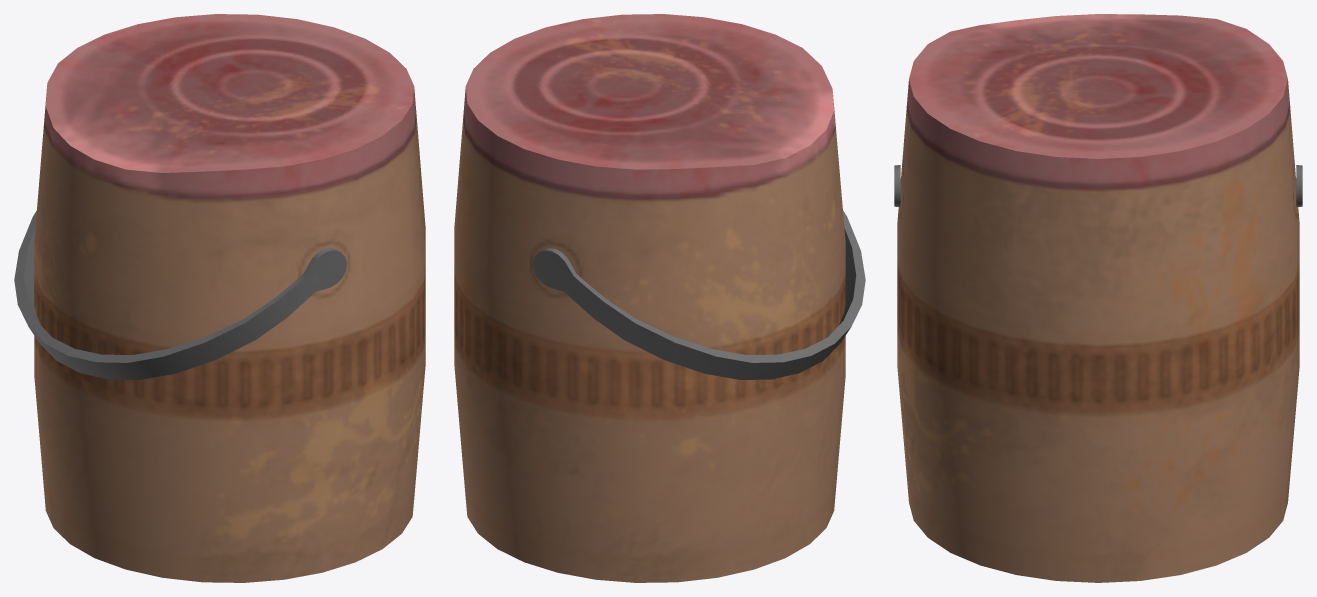
Rendered from MB_Biotoilet.fbx.
3 renders of one model, left to right at view 1: azimuth 30°, elevation 25°; view 2: azimuth 150°, elevation 25°; view 3: azimuth 270°, elevation 25°, orthographic. The views are drawn at different scales.
Parts seen in each view (by area): view 1: MB_Biotoilet_LOD0; view 2: MB_Biotoilet_LOD0; view 3: MB_Biotoilet_LOD0.
Boxes of the visible parts, <box> form: MB_Biotoilet_LOD0: <box>14,14,425,582</box>; MB_Biotoilet_LOD0: <box>454,14,865,582</box>; MB_Biotoilet_LOD0: <box>894,14,1302,582</box>.
Size of what is drawn, in the model's own units: 42.25 by 47.05 by 41.1.
